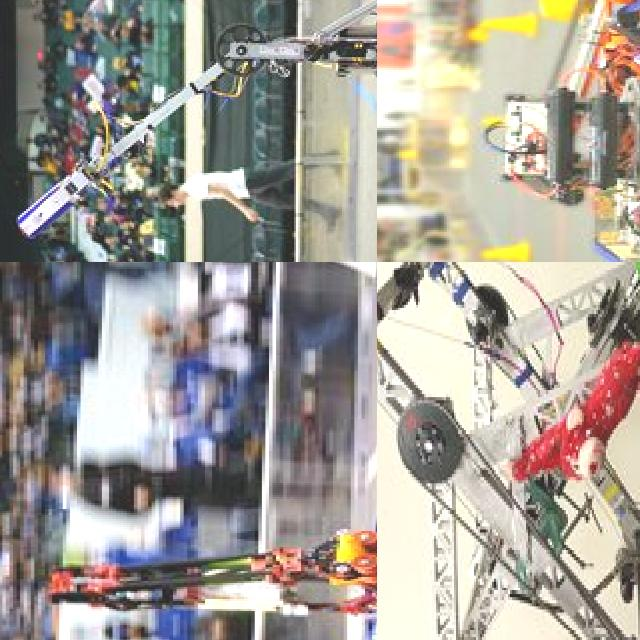FRC-Robots: (377, 262, 640, 640), (21, 0, 377, 262), (0, 460, 377, 640), (473, 0, 640, 262)
